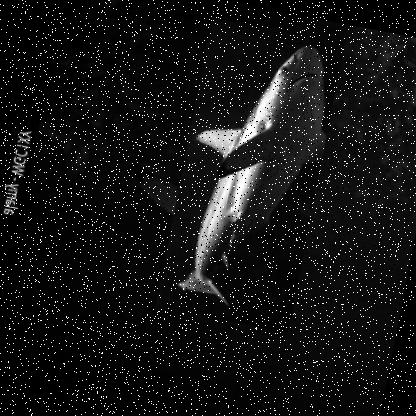zebra_shark: (155, 15, 344, 332)
